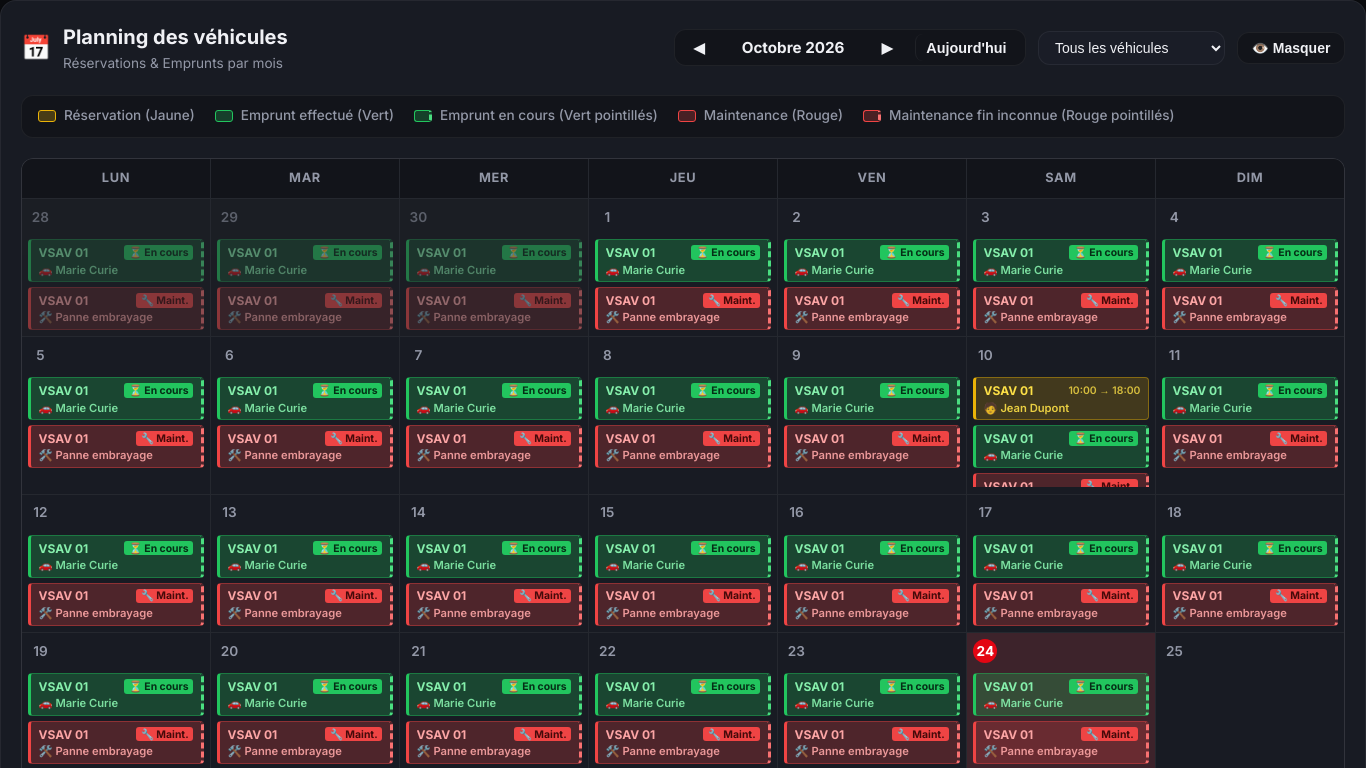
it: VehicleCalendar Component › opens details modal when an event is clicked
Click the 1st text "🚗 Marie Curie".
click(78, 270)  # box left=39, top=262, right=118, bottom=276
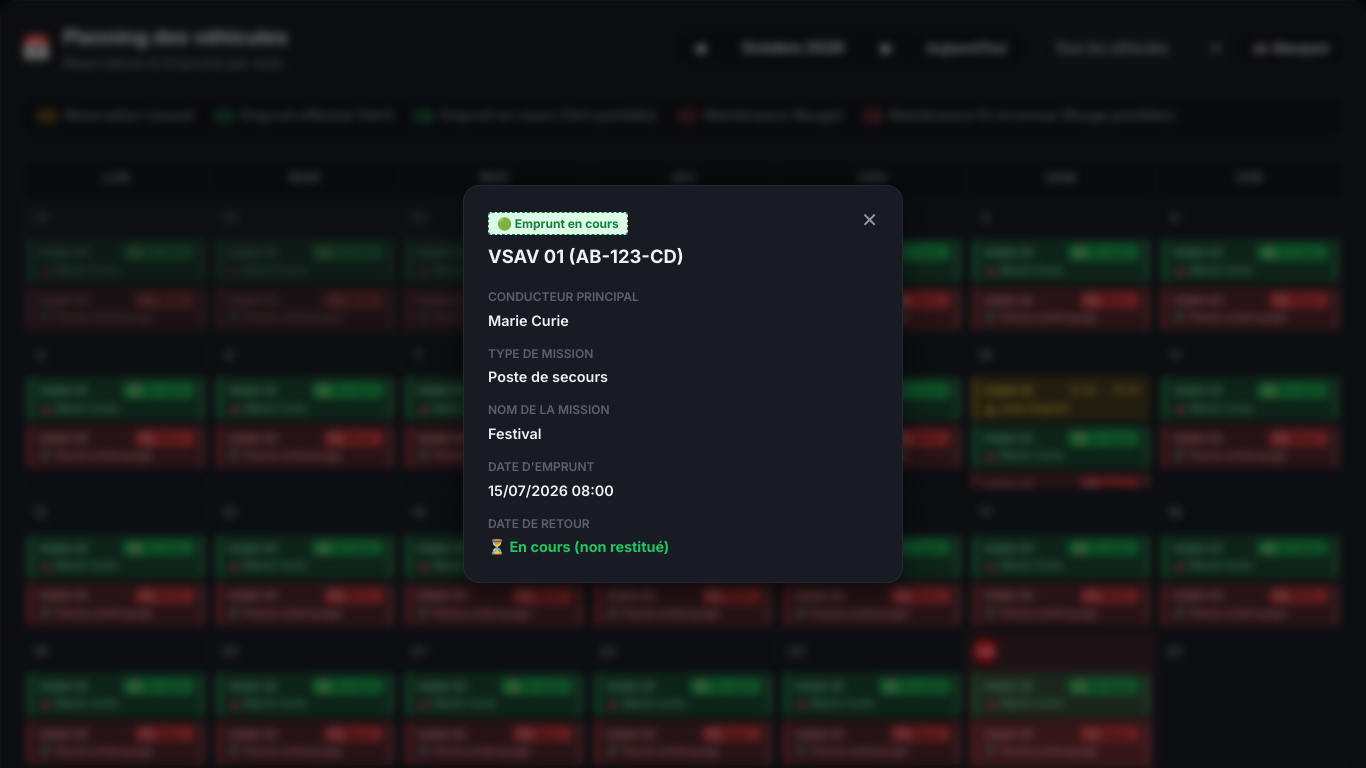
Now the text "Poste de secours" is shown, box left=488, top=368, right=608, bottom=385
